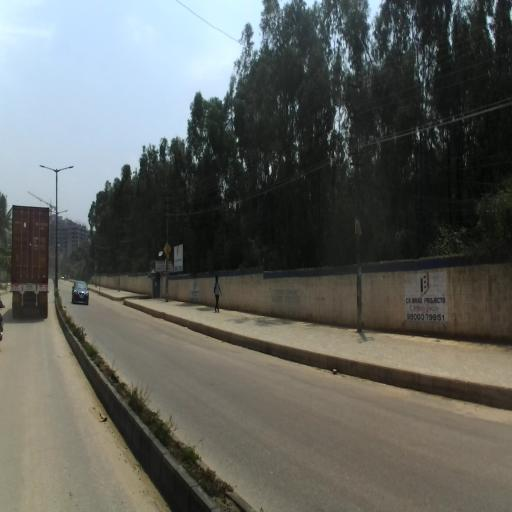street_light_0: (39, 164, 59, 174), (55, 164, 74, 174), (56, 208, 68, 215)
